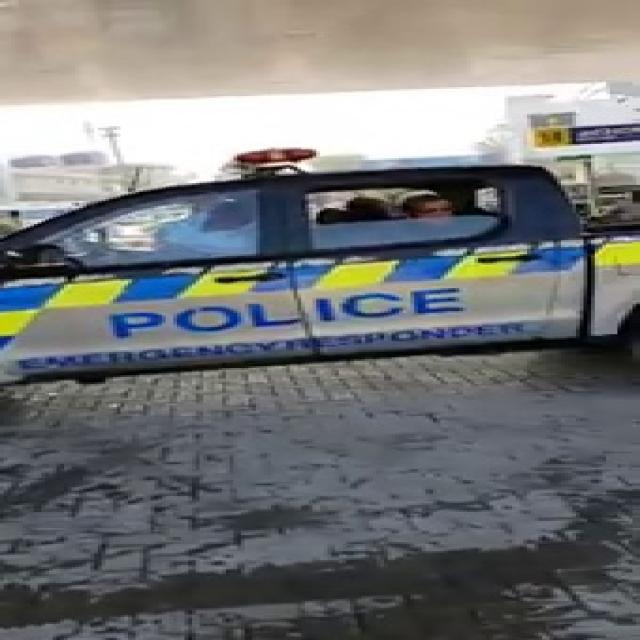police: (5, 141, 640, 364)
